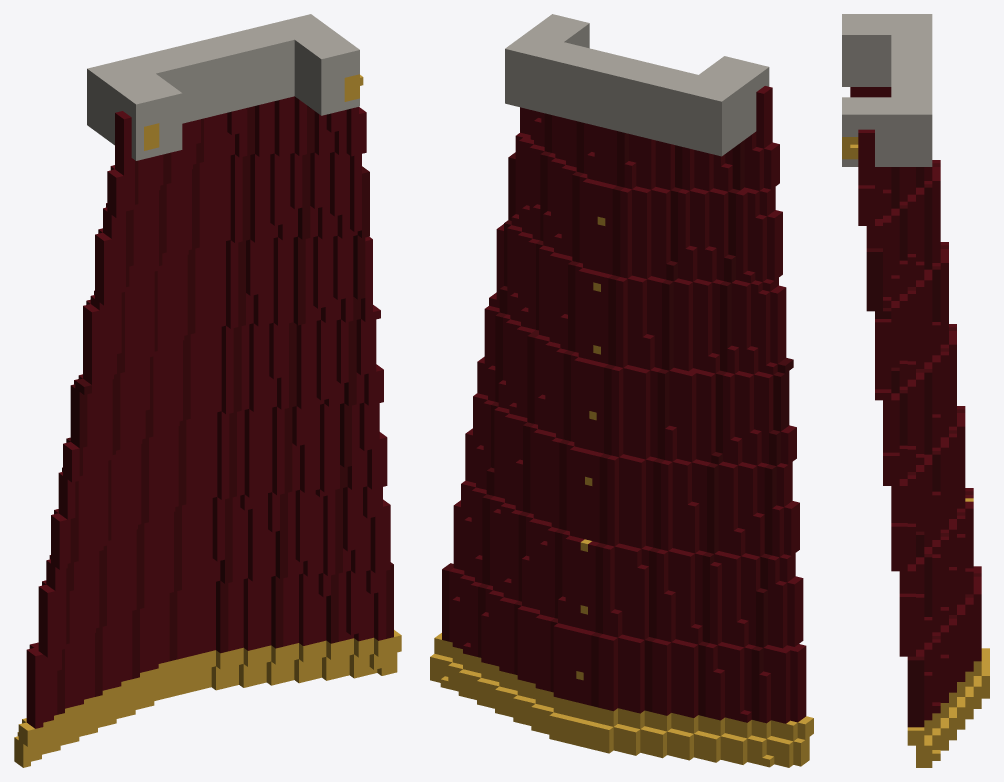
Rendered from chain_epic_cloak.glb.
3 renders of one model, left to right at view 1: azimuth 30°, elevation 25°; view 2: azimuth 150°, elevation 25°; view 3: azimuth 270°, elevation 25°, orthographic. The views are drawn at different scales.
Parts seen in each view (by area): view 1: chain_epic_cloak; view 2: chain_epic_cloak; view 3: chain_epic_cloak.
Boxes of the visible parts, x1=… form: chain_epic_cloak: x1=14, y1=14, x2=401, y2=767; chain_epic_cloak: x1=430, y1=14, x2=813, y2=767; chain_epic_cloak: x1=842, y1=14, x2=989, y2=767.
Size of the model in its own units: 0.588 by 0.996 by 0.216.
